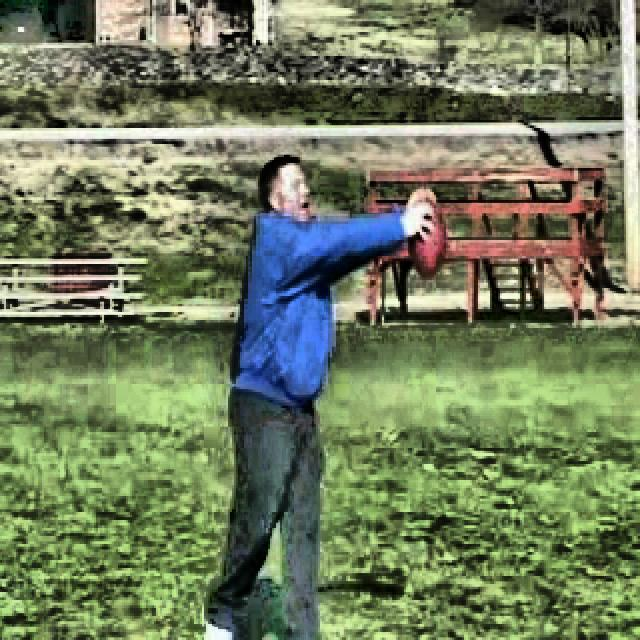I: (201, 142, 426, 640)
